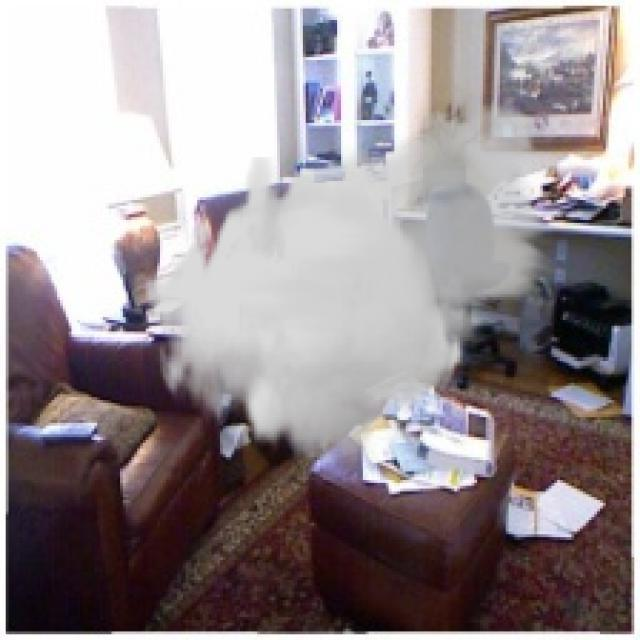Smoke: (143, 86, 560, 463)
